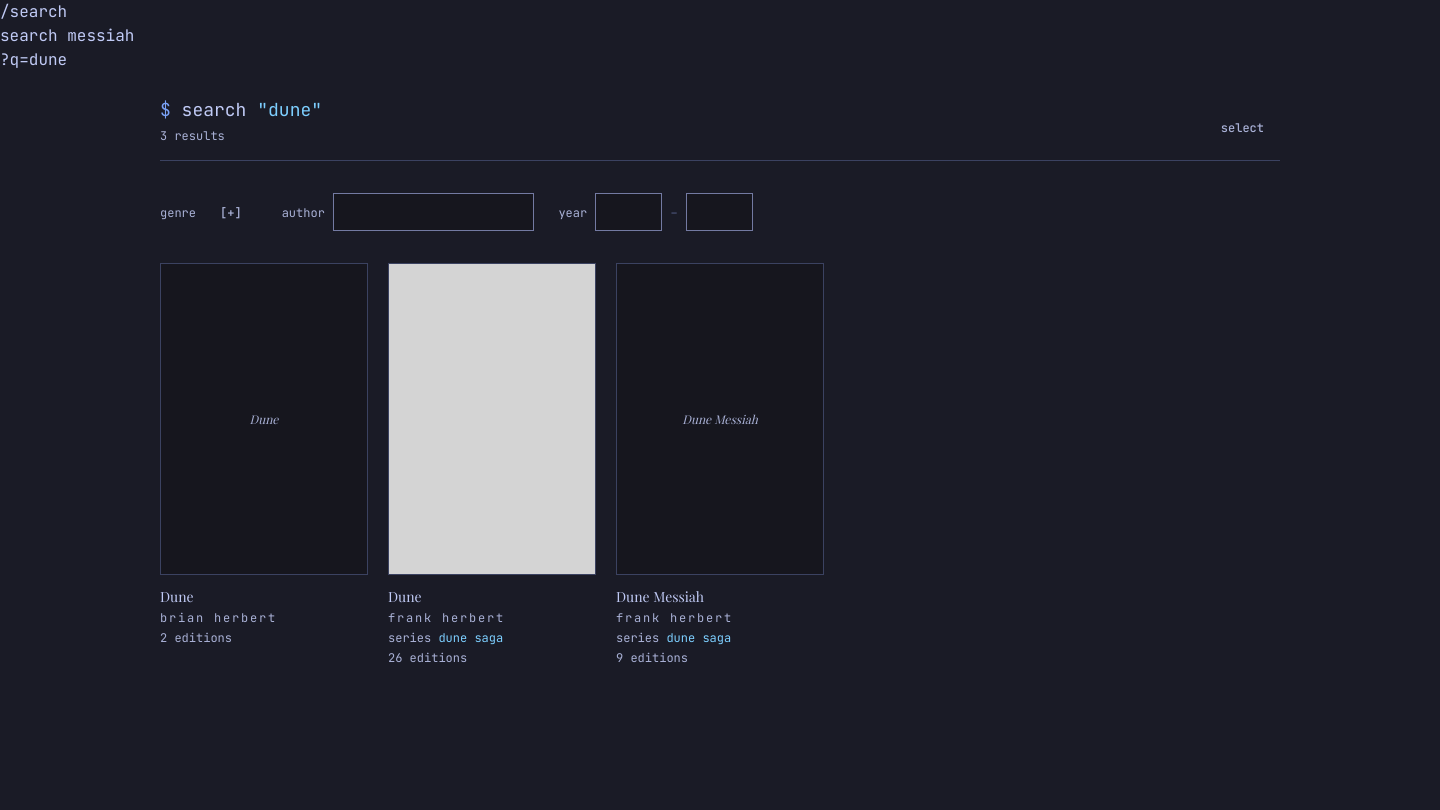
Test: Search page › closing the panel keeps the selection
The width and height of the screenshot is (1440, 810).
Click the button "select": (1242, 128) [1205,112,1280,144]
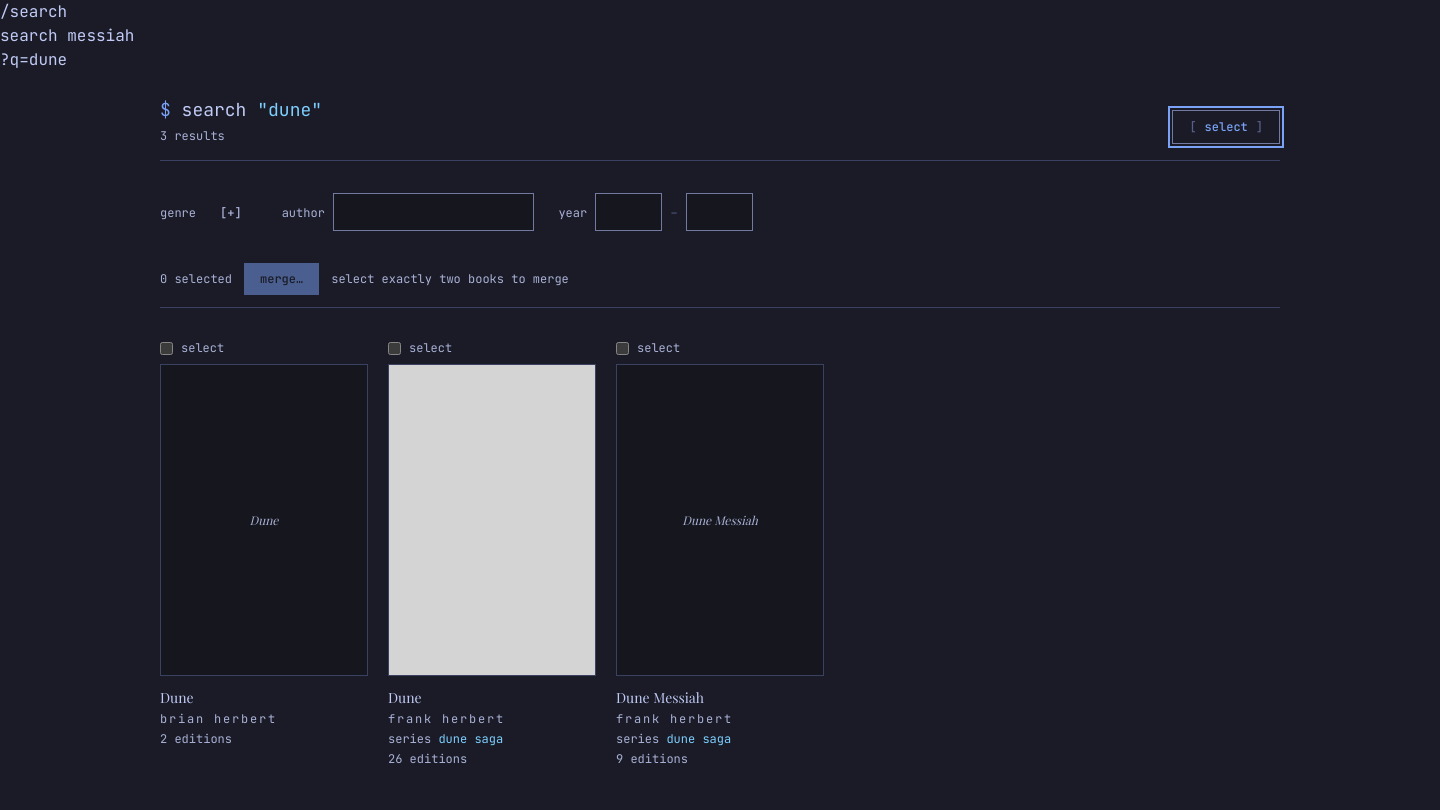
Click the checkbox labelled "select Dune Dune Brian Herbert 2 editions": (166, 348) [160,342,173,354]
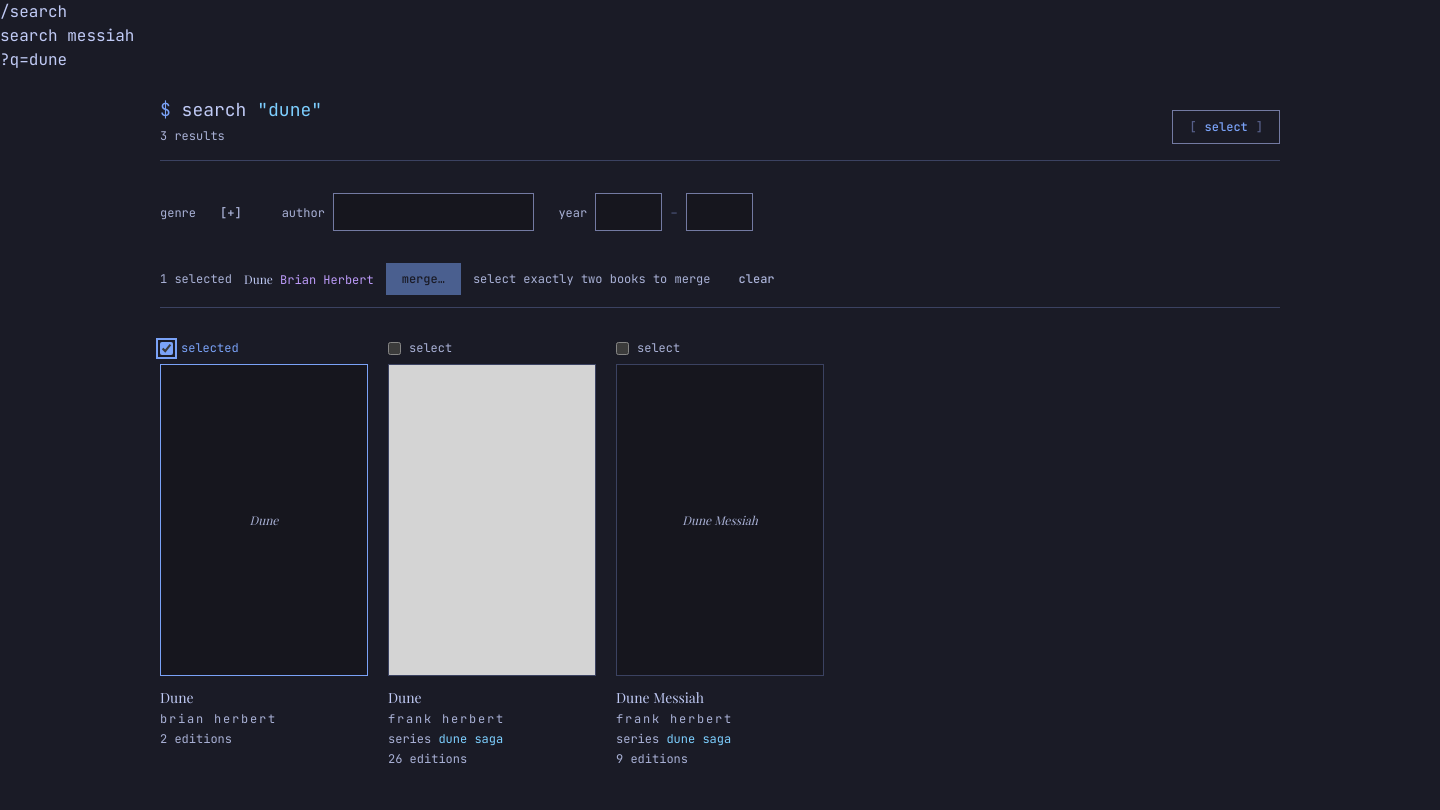
Click the checkbox labelled "select Dune Frank Herbert series Dune Saga 26 editions": (394, 348) [388,342,401,354]
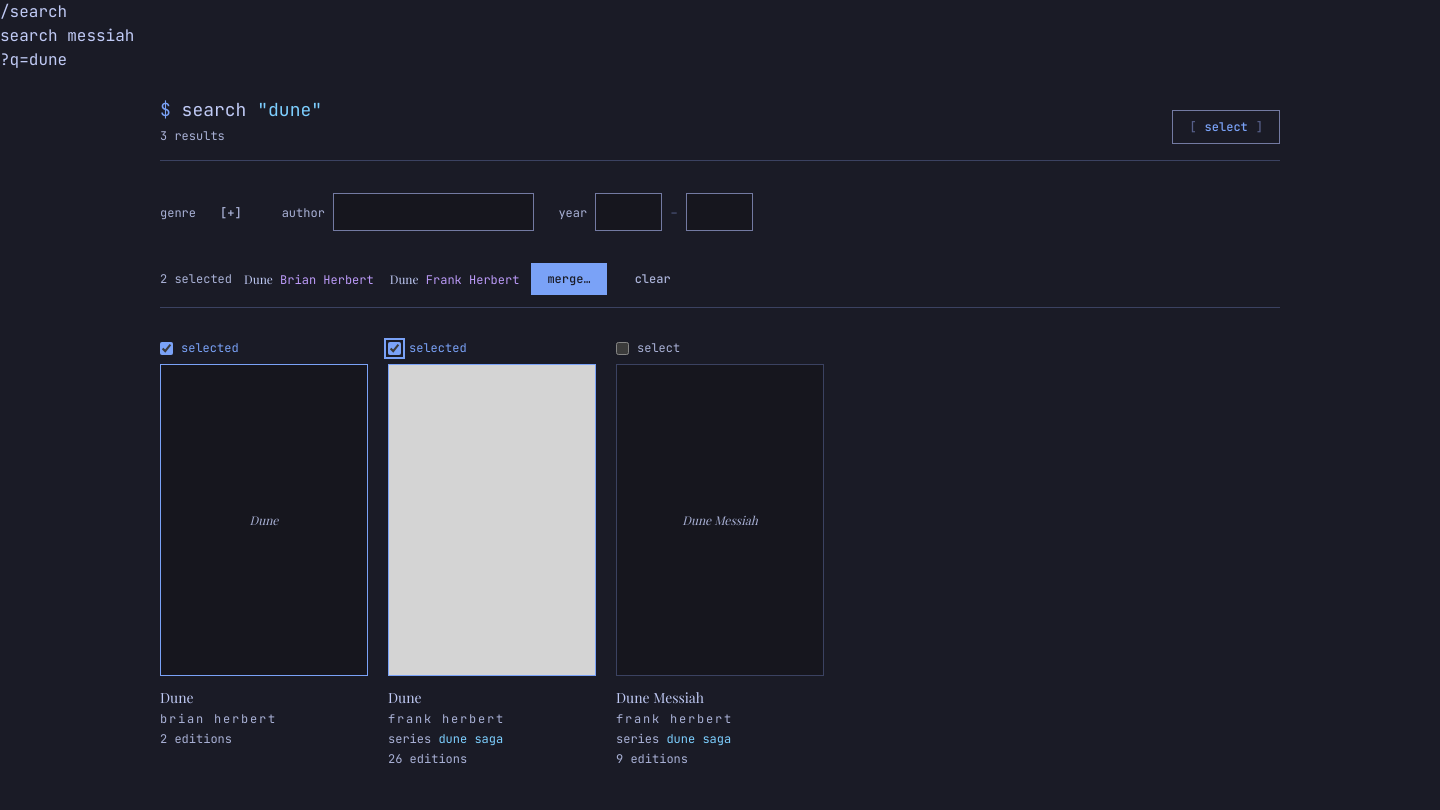
Click the button "merge…": (569, 279) [531,263,607,295]
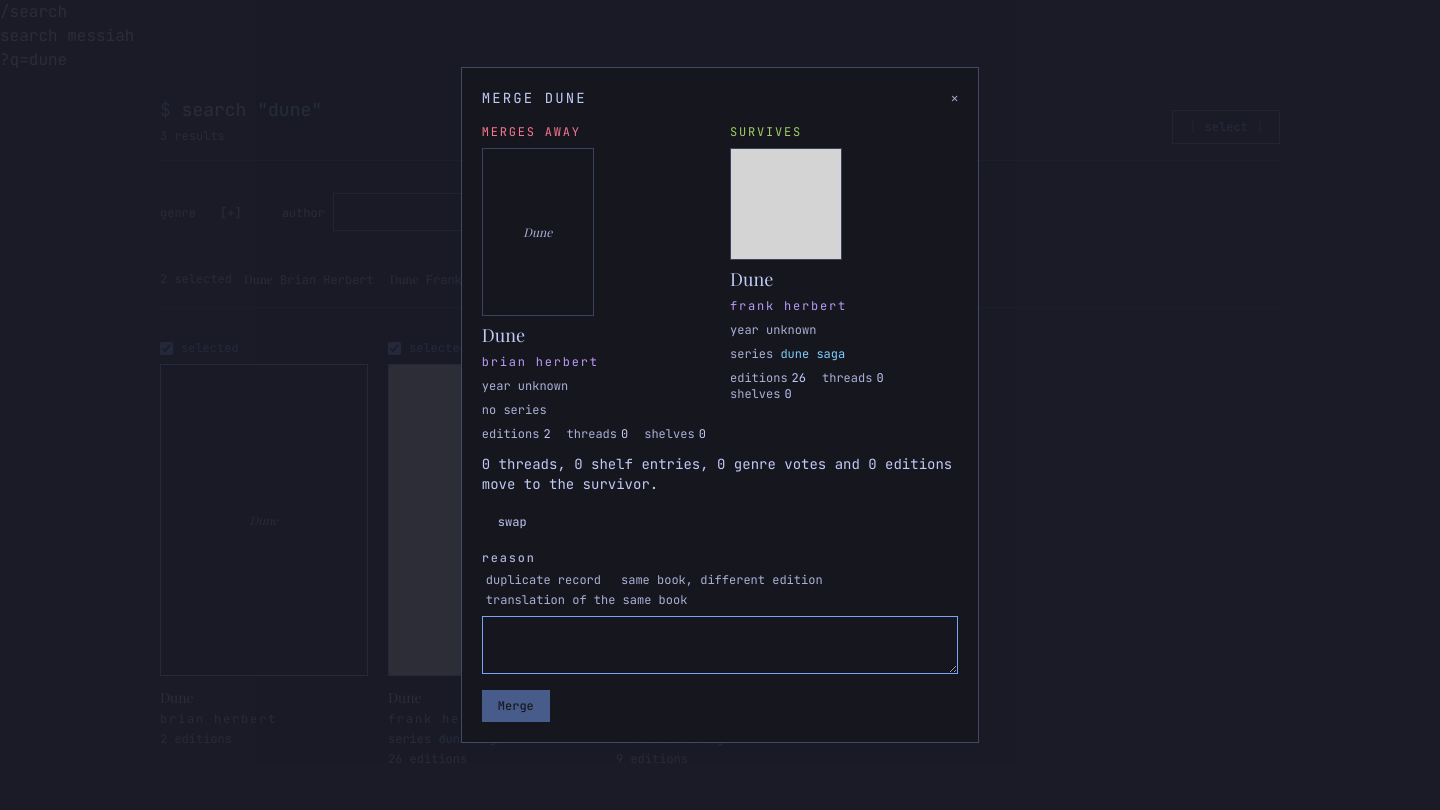
Press Escape
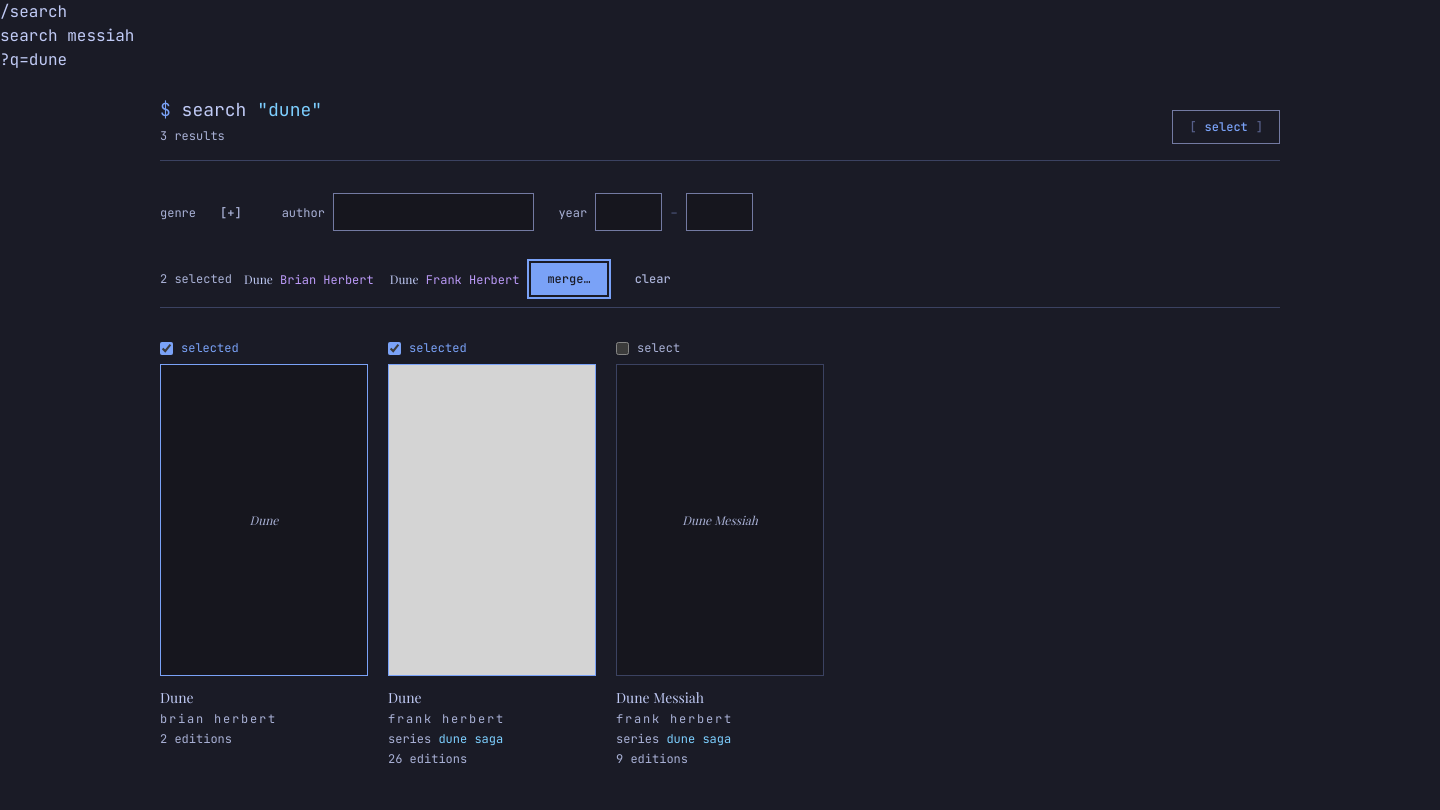
Now the dialog is gone
